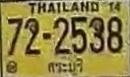2: (53, 16, 70, 54), (24, 17, 41, 54)
3: (88, 16, 105, 53)
5: (70, 16, 88, 54)
7: (7, 17, 22, 55)
8: (106, 16, 123, 53)
KBI: (45, 57, 84, 76)
